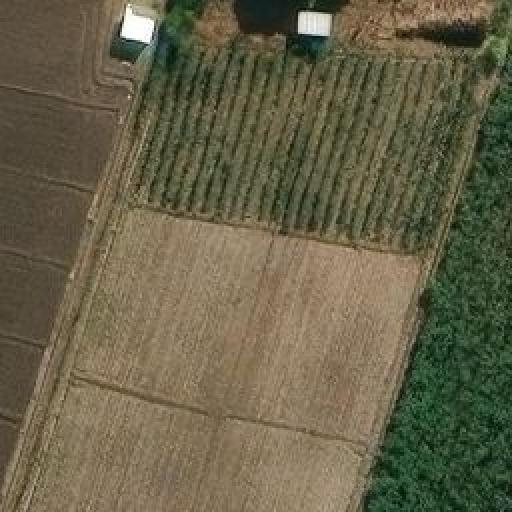manzanas: (103, 0, 165, 61), (285, 0, 340, 52)
